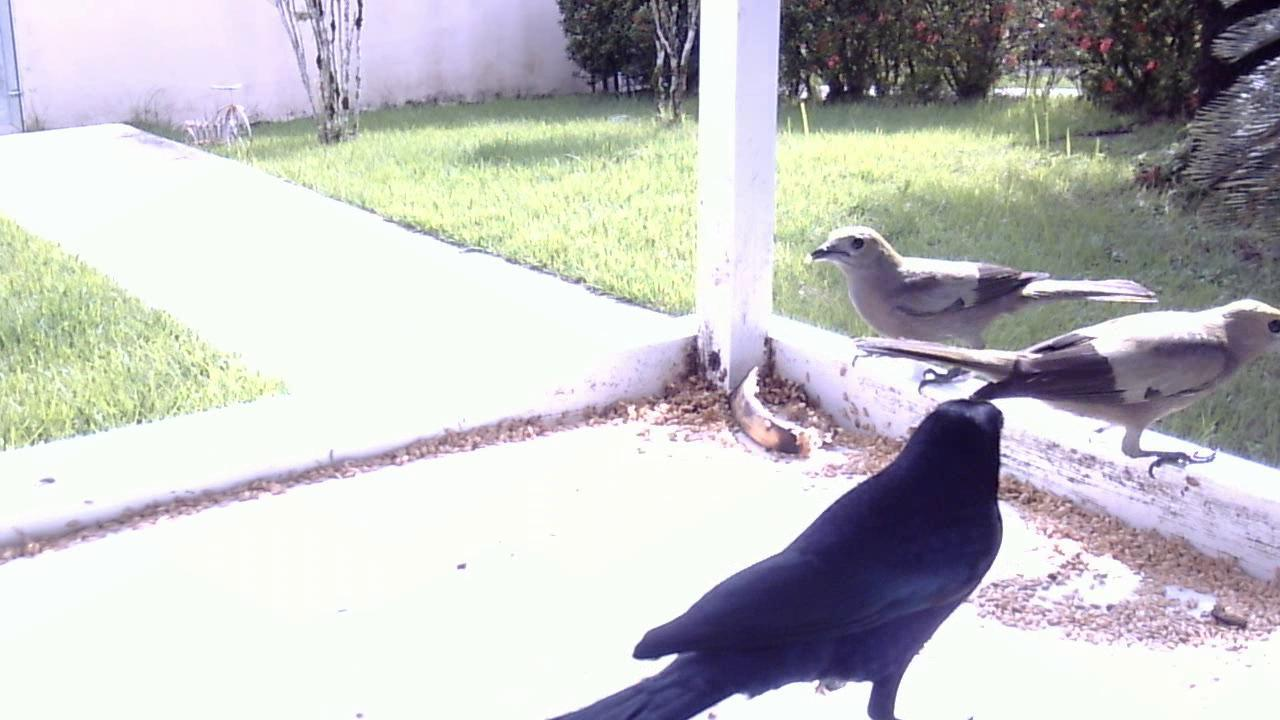chupim: (559, 378, 1018, 720)
sanhaco_do_coqueiro: (851, 294, 1276, 510), (802, 218, 1193, 404)
